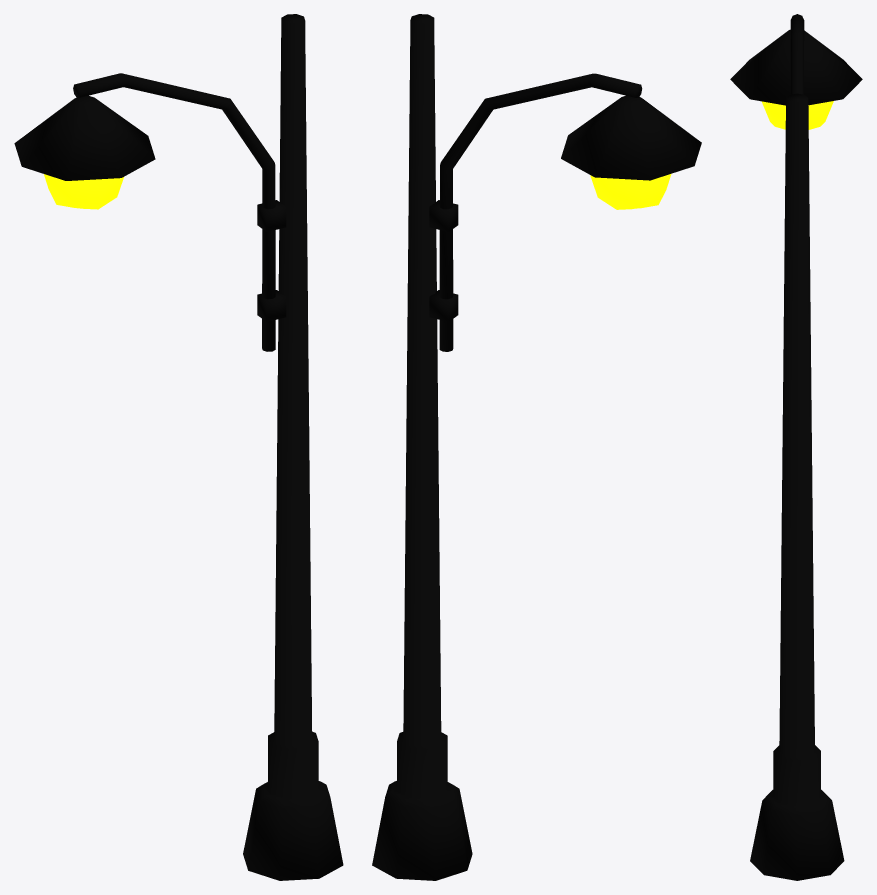
File: Lamp_2.fbx
3 views of the same model, side by side, from view 1: azimuth 30°, elevation 25°; view 2: azimuth 150°, elevation 25°; view 3: azimuth 270°, elevation 25° (orthographic). The views are drawn at different scales.
Visible parts, largest first — view 1: Cube.306; view 2: Cube.306; view 3: Cube.306.
Part boxes in pixels (x1,y1,x2,y2): Cube.306: (14, 14, 343, 880); Cube.306: (372, 14, 701, 880); Cube.306: (730, 14, 862, 880).
Size of the model in its own units: 175 by 443 by 69.78.
